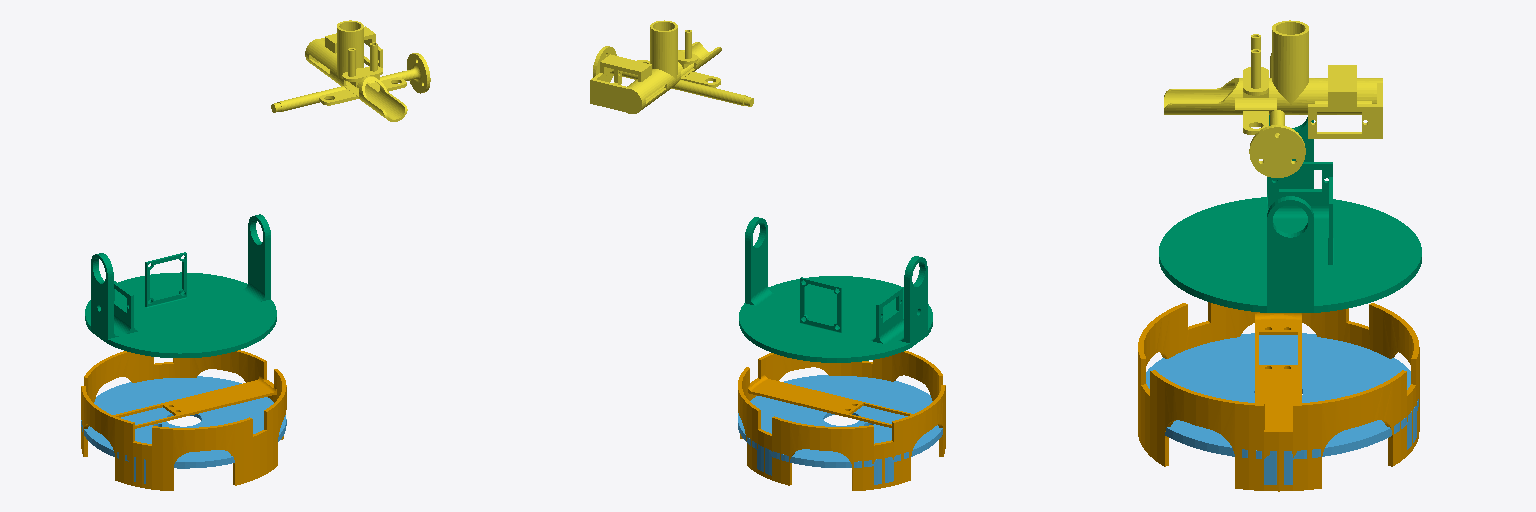
URDF robot description (turret):
<?xml version="1.0" ?>
<!-- =================================================================================== -->
<!-- |    This document was autogenerated by xacro from turret.urdf.xacro              | -->
<!-- |    EDITING THIS FILE BY HAND IS NOT RECOMMENDED                                 | -->
<!-- =================================================================================== -->
<robot name="turret">
  <link name="base_link">
    <visual>
      <origin rpy="0 0 0" xyz="0.000009 -0.000032 3.1399"/>
      <geometry>
        <mesh filename="package://my_robot_description/meshes/bottombase.stl"/>
      </geometry>
    </visual>
    <inertial>
  			<mass value="1.0"/>
  			<origin xyz="0 0 0"/>
  			<inertia
    			ixx="0.1" ixy="0" ixz="0"
    			iyy="0.1" iyz="0"
    			izz="0.1"/>
		</inertial>
  </link>
  <link name="base_top">
    <visual>
      <origin rpy="0 0 0.20868902" xyz="0.63776 0.019067 5.0907"/>
      <geometry>
        <mesh filename="package://my_robot_description/meshes/basetop.stl"/>
      </geometry>
    </visual>
    <inertial>
  			<mass value="1.0"/>
  			<origin xyz="0 0 0"/>
  			<inertia
    			ixx="0.1" ixy="0" ixz="0"
    			iyy="0.1" iyz="0"
    			izz="0.1"/>
		</inertial>
  </link>
  <joint name="base_to_top" type="fixed">
    <parent link="base_link"/>
    <child link="base_top"/>
    <origin rpy="0 0 0" xyz="0 0 0"/>
  </joint>
  <link name="rotating_support">
    <visual>
      <origin rpy="0 0 0" xyz="0.096907 0.65344 7.582"/>
      <geometry>
        <mesh filename="package://my_robot_description/meshes/rotatingsupport.stl"/>
      </geometry>
    </visual>
    <inertial>
  			<mass value="1.0"/>
  			<origin xyz="0 0 0"/>
  			<inertia
    			ixx="0.1" ixy="0" ixz="0"
    			iyy="0.1" iyz="0"
    			izz="0.1"/>
		</inertial>
  </link>
  <link name="barrel">
    <visual>
      <origin rpy="0 0 3.141592654" xyz="-0.43407 0.027148 12.121"/>
      <geometry>
        <mesh filename="package://my_robot_description/meshes/barrel.stl"/>
      </geometry>
    </visual>
    <inertial>
  			<mass value="1.0"/>
  			<origin xyz="0 0 0"/>
  			<inertia
    			ixx="0.1" ixy="0" ixz="0"
    			iyy="0.1" iyz="0"
    			izz="0.1"/>
		</inertial>
  </link>
  <joint name="joint1" type="revolute">
    <parent link="base_top"/>
    <child link="rotating_support"/>
    <origin xyz="1.04 -0.03729 5.506"/>
    <axis xyz="0 0 1"/>
    <limit effort="10" lower="-1.5708" upper="1.5708" velocity="1"/>
  </joint>
  <joint name="joint2" type="revolute">
    <parent link="rotating_support"/>
    <child link="barrel"/>
    <origin xyz="7.94 -0.06256 11.21"/>
    <axis xyz="1 0 0"/>
    <limit effort="10" lower="-1.5708" upper="1.5708" velocity="1"/>
  </joint>
  <ros2_control name="GazeboSystem" type="system">
    <hardware>
      <plugin>gz_ros2_control/GazeboSimSystem</plugin>
    </hardware>
    <joint name="joint1">
      <command_interface name="position"/>
      <state_interface name="position"/>
      <state_interface name="velocity"/>
    </joint>
    <joint name="joint2">
      <command_interface name="position"/>
      <state_interface name="position"/>
      <state_interface name="velocity"/>
    </joint>
  </ros2_control>
</robot>

--- Facts derived from the render (not from the file) ---
3 views of the same robot in one strip: view 1: azimuth 30°, elevation 25°; view 2: azimuth 150°, elevation 25°; view 3: azimuth 270°, elevation 25° (orthographic).
Robot: turret — 4 links, 3 joints (2 revolute, 1 fixed); root link base_link; default pose: every joint at zero.
Links seen in each view (by area): view 1: rotating_support, base_link, barrel, base_top; view 2: rotating_support, base_link, base_top, barrel; view 3: base_link, rotating_support, base_top, barrel.
Boxes of the visible links, x1,y1,x2,y2 form: rotating_support: [85, 214, 276, 357]; base_link: [81, 350, 286, 490]; barrel: [271, 20, 430, 121]; base_top: [81, 376, 286, 483]; rotating_support: [739, 217, 932, 362]; base_link: [738, 351, 945, 490]; base_top: [738, 375, 942, 484]; barrel: [590, 20, 753, 113]; base_link: [1138, 302, 1419, 491]; rotating_support: [1159, 115, 1421, 312]; base_top: [1146, 333, 1418, 484]; barrel: [1164, 20, 1382, 177].
Size in the robot's own frame: 27.41 by 15.14 by 30.43 metres.
4 mesh visuals loaded from 4 distinct referenced files (4 binary STL).
